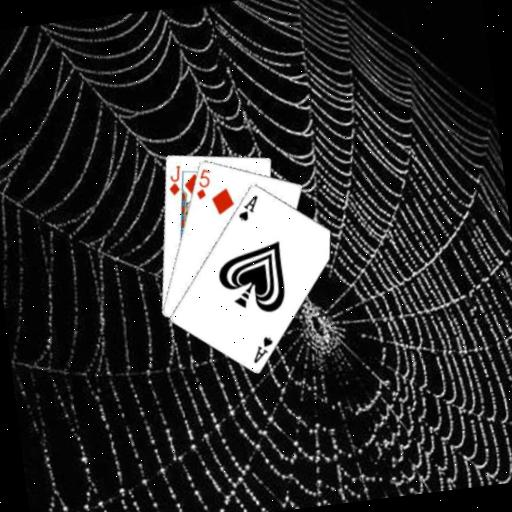5D: (190, 165, 215, 201)
AS: (247, 332, 277, 365), (233, 191, 262, 223)
JD: (163, 163, 185, 198)
